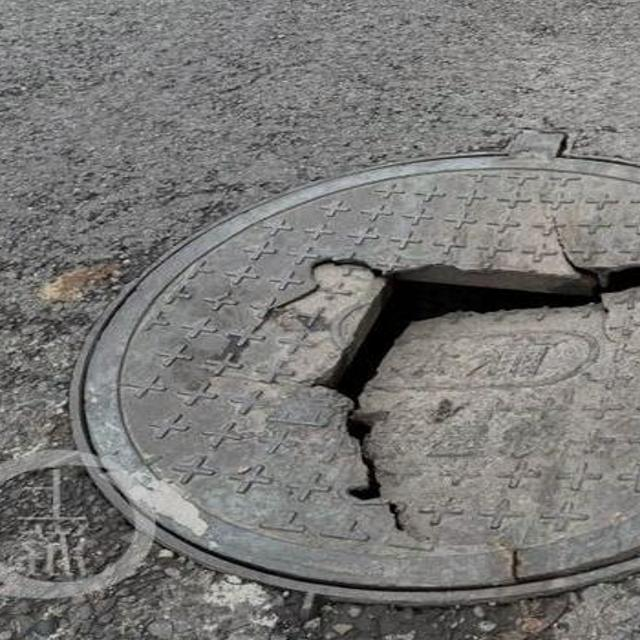broke: (65, 133, 640, 619)
